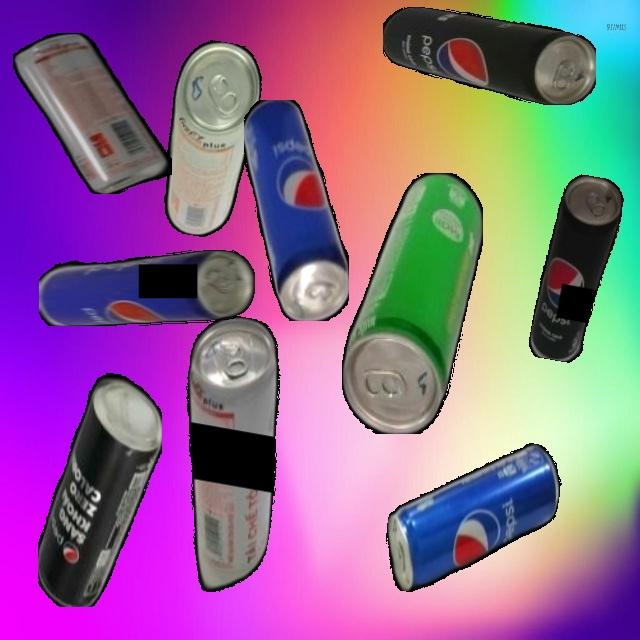debris: (151, 310, 305, 600), (341, 172, 483, 434), (377, 422, 567, 614), (37, 366, 162, 607), (13, 32, 172, 194), (151, 36, 268, 242), (243, 99, 349, 321), (382, 7, 596, 105), (527, 171, 627, 367), (38, 250, 255, 326)
